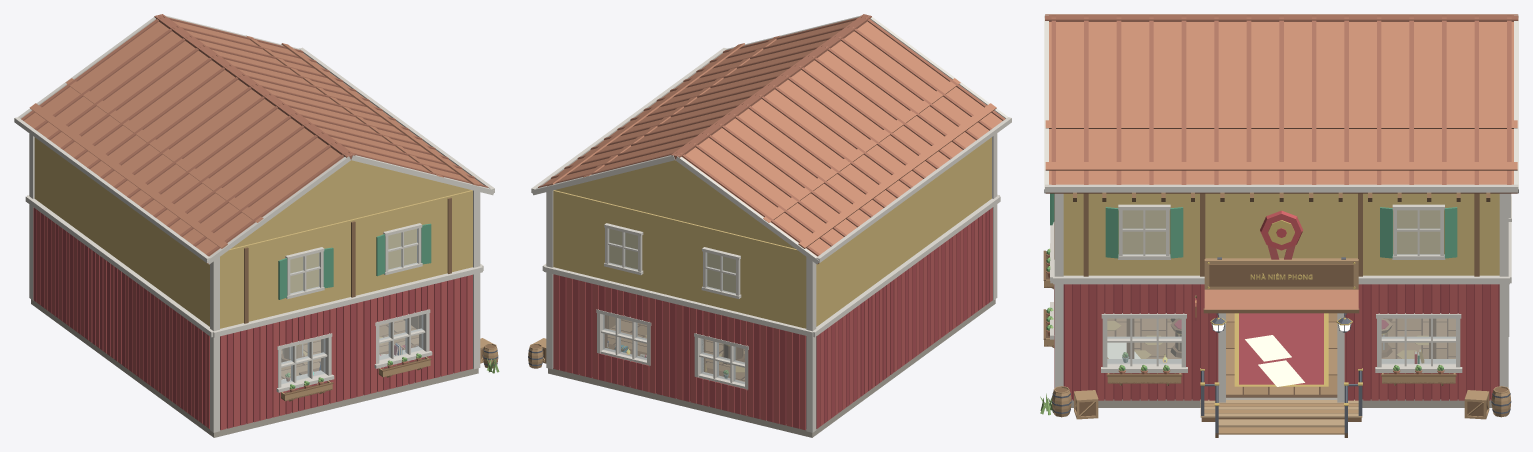
Rendered from LP_Shop_NhaNiemPhong.fbx.
The picture shows the model from 3 angles, left to right: view 1: azimuth 30°, elevation 25°; view 2: azimuth 150°, elevation 25°; view 3: azimuth 270°, elevation 25°; orthographic projection. The views are drawn at different scales.
Visible parts, largest first — view 1: Roof_Slab_-1.0, Wall_South_F2, Wall_Back_F2, Roof_Slab_1.0, Roof_GableWall, BasePlinth, BeltTrim_S, Roof_RidgeCap, Roof_Course_-1.0_3, BeltTrim_B, Roof_Course_-1.0_2, Roof_EaveTrim_-1.0 (+70 smaller); view 2: Roof_Slab_-1.0, Wall_North_F2, Wall_Back_F2, Roof_Slab_1.0, Roof_GableWall, BasePlinth, Roof_RidgeCap, BeltTrim_N, Roof_Course_-1.0_3, BeltTrim_B, CornerPost_-4.9_5.9, Roof_Course_-1.0_2 (+68 smaller); view 3: Roof_Slab_1.0, Wall_Front_F2, Hall_RugBody, Roof_Course_1.0_3, Roof_EaveTrim_1.0, Roof_Course_1.0_2, Roof_RidgeCap, Sign_Face, DoorHood_Roof, Win_FrontS_Glass, Win_FrontN_Glass, BeltTrim_F (+78 smaller).
Boxes of the visible parts, x1,y1,x2,y2 form: Roof_Slab_-1.0: [21, 20, 343, 263]; Wall_South_F2: [220, 190, 472, 328]; Wall_Back_F2: [34, 137, 209, 326]; Roof_Slab_1.0: [172, 20, 483, 185]; Roof_GableWall: [231, 160, 471, 248]; BasePlinth: [31, 299, 478, 437]; BeltTrim_S: [211, 265, 482, 337]; Roof_RidgeCap: [154, 14, 355, 159]; Roof_Course_-1.0_3: [29, 103, 227, 248]; BeltTrim_B: [25, 196, 213, 337]; Roof_Course_-1.0_2: [65, 78, 263, 222]; Roof_EaveTrim_-1.0: [14, 117, 210, 262]; Roof_Slab_-1.0: [682, 19, 1004, 263]; Wall_North_F2: [553, 190, 806, 328]; Wall_Back_F2: [816, 137, 991, 326]; Roof_Slab_1.0: [543, 20, 853, 184]; Roof_GableWall: [555, 160, 795, 248]; BasePlinth: [548, 299, 995, 437]; Roof_RidgeCap: [671, 14, 871, 159]; BeltTrim_N: [544, 266, 814, 337]; Roof_Course_-1.0_3: [798, 103, 996, 248]; BeltTrim_B: [813, 196, 1000, 337]; CornerPost_-4.9_5.9: [806, 257, 816, 432]; Roof_Course_-1.0_2: [763, 78, 960, 222]; Roof_Slab_1.0: [1045, 22, 1517, 193]; Wall_Front_F2: [1063, 193, 1499, 275]; Hall_RugBody: [1239, 313, 1323, 384]; Roof_Course_1.0_3: [1045, 162, 1517, 170]; Roof_EaveTrim_1.0: [1045, 184, 1518, 192]; Roof_Course_1.0_2: [1045, 120, 1517, 128]; Roof_RidgeCap: [1045, 14, 1518, 21]; Sign_Face: [1209, 264, 1353, 286]; DoorHood_Roof: [1204, 289, 1358, 309]; Win_FrontS_Glass: [1107, 318, 1181, 363]; Win_FrontN_Glass: [1381, 318, 1455, 363]; BeltTrim_F: [1053, 275, 1509, 284].
Size of the model in its own units: 12.29 by 9.2 by 12.75.
